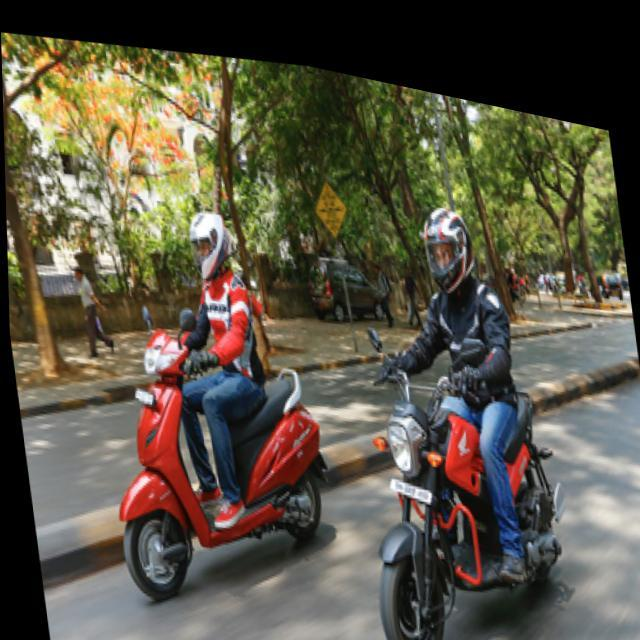Helmet: (413, 198, 490, 299), (180, 201, 237, 296)
